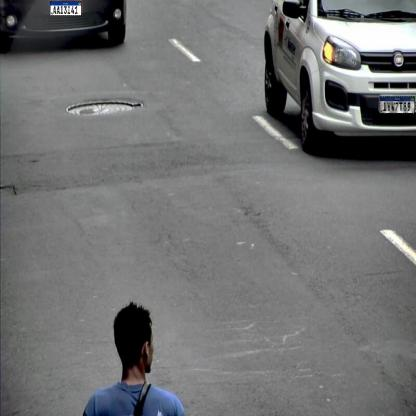PlacaM: (380, 96, 415, 114), (50, 1, 82, 16)
